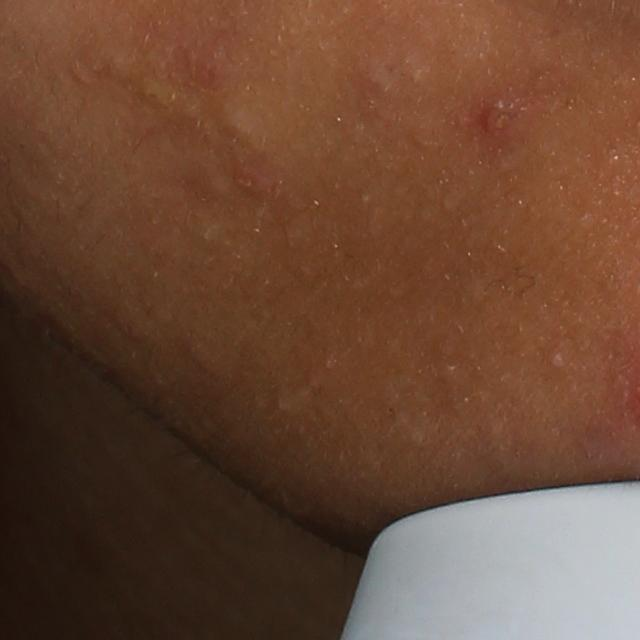comedo: (229, 163, 283, 211), (136, 83, 176, 120), (543, 347, 573, 381)
papule: (476, 90, 530, 146)
